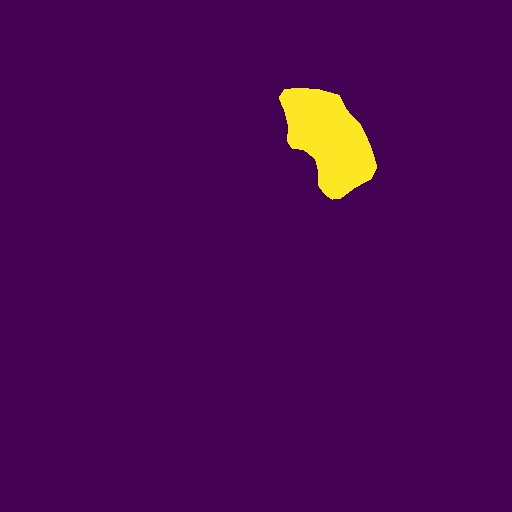Gliomia_tumour: (279, 88, 377, 200)
